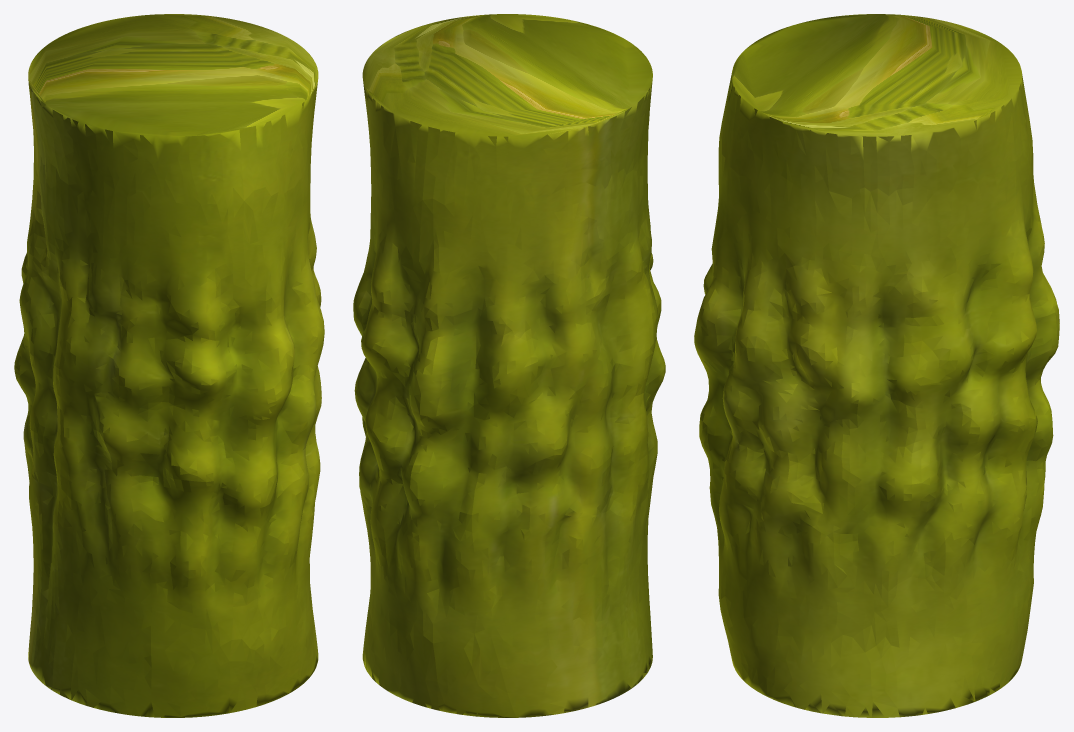
File: stem-c.glb
3 views of the same model, side by side, from view 1: azimuth 30°, elevation 25°; view 2: azimuth 150°, elevation 25°; view 3: azimuth 270°, elevation 25° (orthographic).
Parts seen in each view (by area): view 1: sunflower-new_Stem_C; view 2: sunflower-new_Stem_C; view 3: sunflower-new_Stem_C.
Part boxes in pixels (<box>): sunflower-new_Stem_C: <box>14,14,324,717</box>; sunflower-new_Stem_C: <box>353,14,665,717</box>; sunflower-new_Stem_C: <box>694,14,1059,717</box>.
Bounding box in the file's own units: 0.0554 × 0.12 × 0.0684.
1 material, 1 textured.
